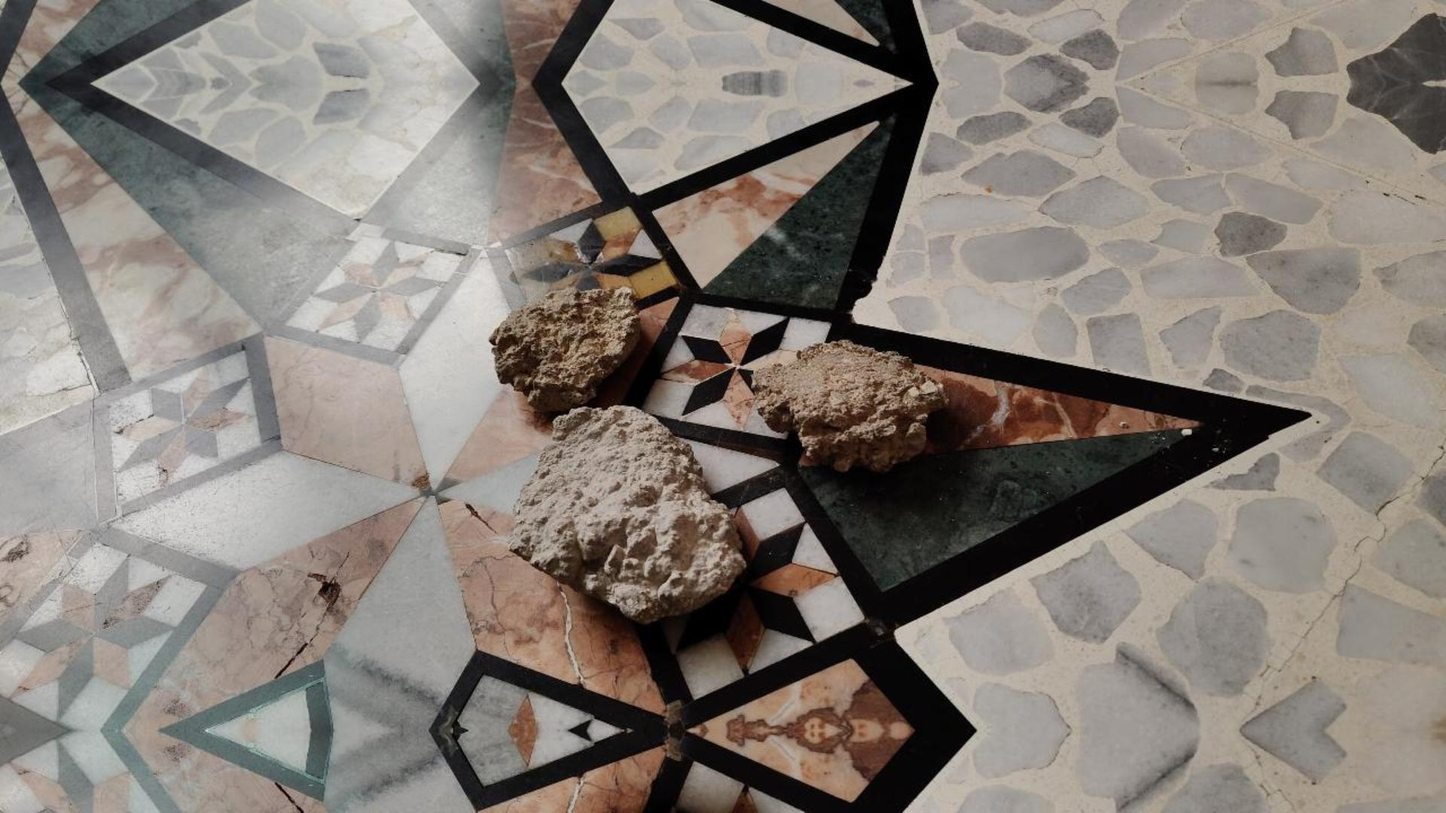rock: (509, 405, 746, 623), (754, 340, 944, 471), (490, 288, 639, 412)
